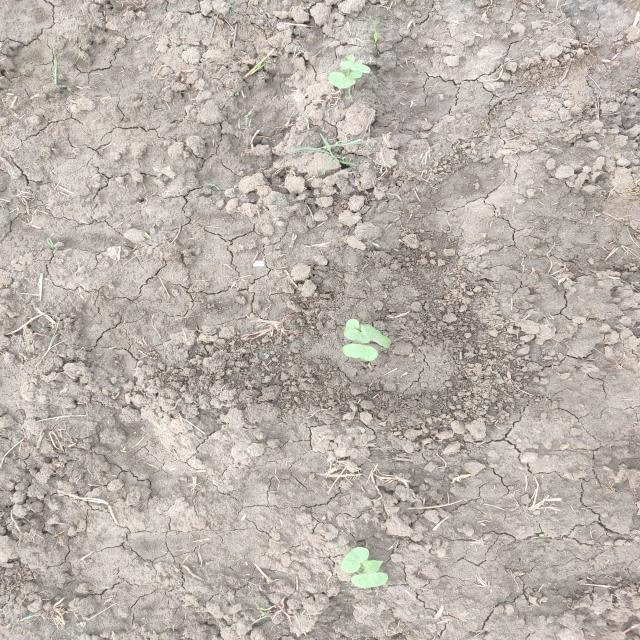seedling: (341, 547, 369, 573), (361, 324, 391, 348), (342, 343, 378, 361), (351, 572, 388, 588), (328, 72, 356, 89), (345, 328, 370, 344), (340, 62, 371, 74), (343, 318, 359, 337), (362, 560, 383, 574), (346, 70, 362, 78)
